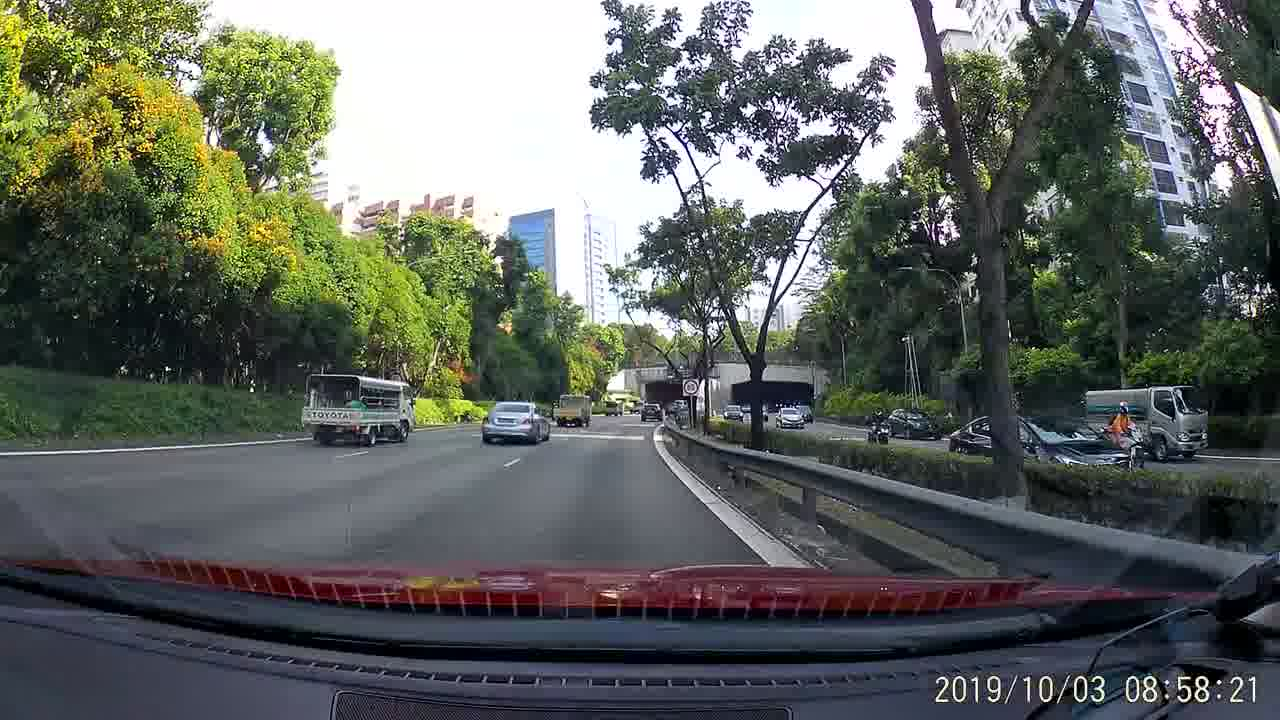car: (950, 412, 1135, 469), (479, 401, 553, 444), (887, 406, 940, 440), (775, 409, 804, 427), (640, 404, 663, 423), (721, 402, 743, 417)
